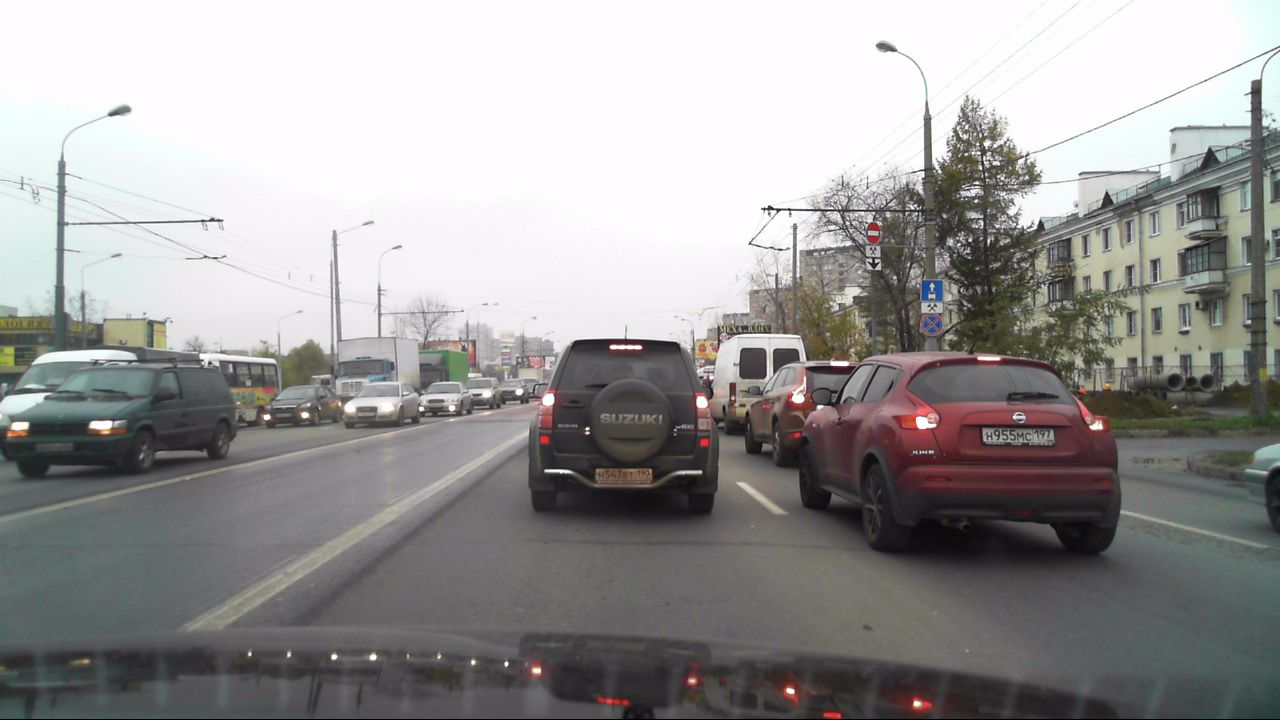No Parking: (919, 315, 943, 338)
